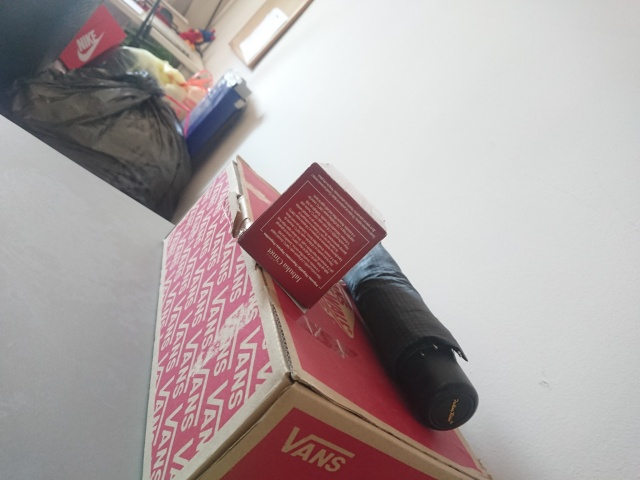Franck Apple Cinnamon Tea 60g: (235, 160, 389, 316)
